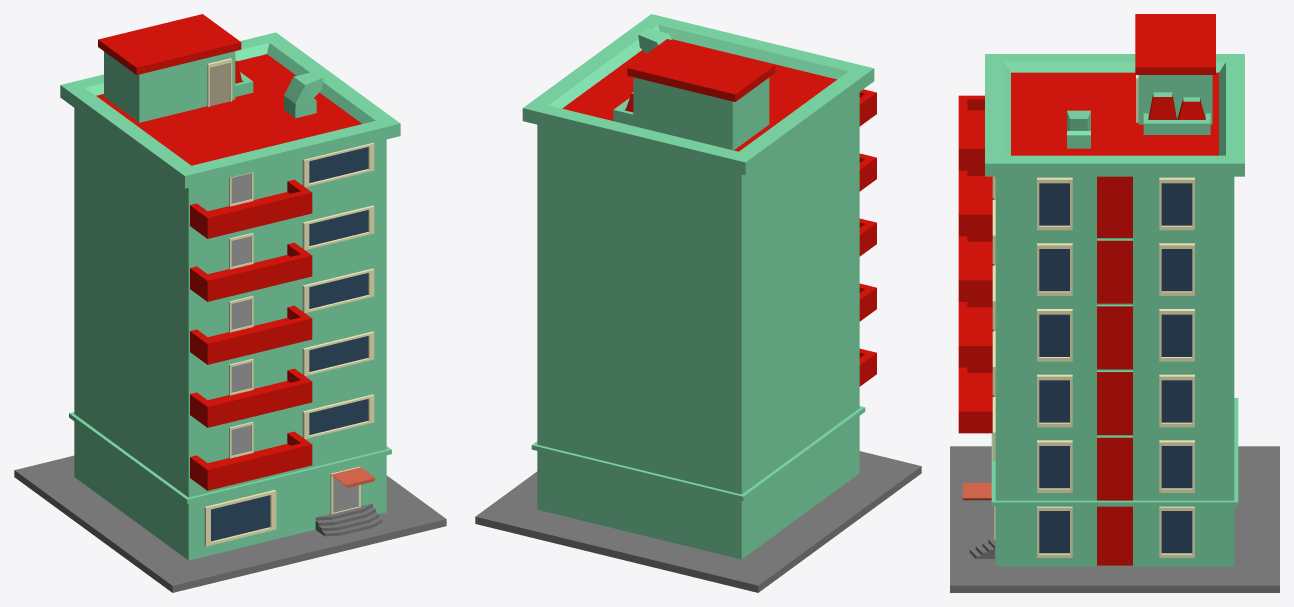
Rendered from hotel 1.fbx.
The picture shows the model from 3 angles, left to right: view 1: azimuth 30°, elevation 25°; view 2: azimuth 150°, elevation 25°; view 3: azimuth 270°, elevation 25°; orthographic projection. The views are drawn at different scales.
Visible parts, largest first — view 1: hotel; view 2: hotel; view 3: hotel.
Part boxes in pixels (<box>): hotel: <box>14,14,446,592</box>; hotel: <box>475,14,921,592</box>; hotel: <box>950,14,1279,592</box>.
Size of the model in its own units: 142 by 222 by 142.
